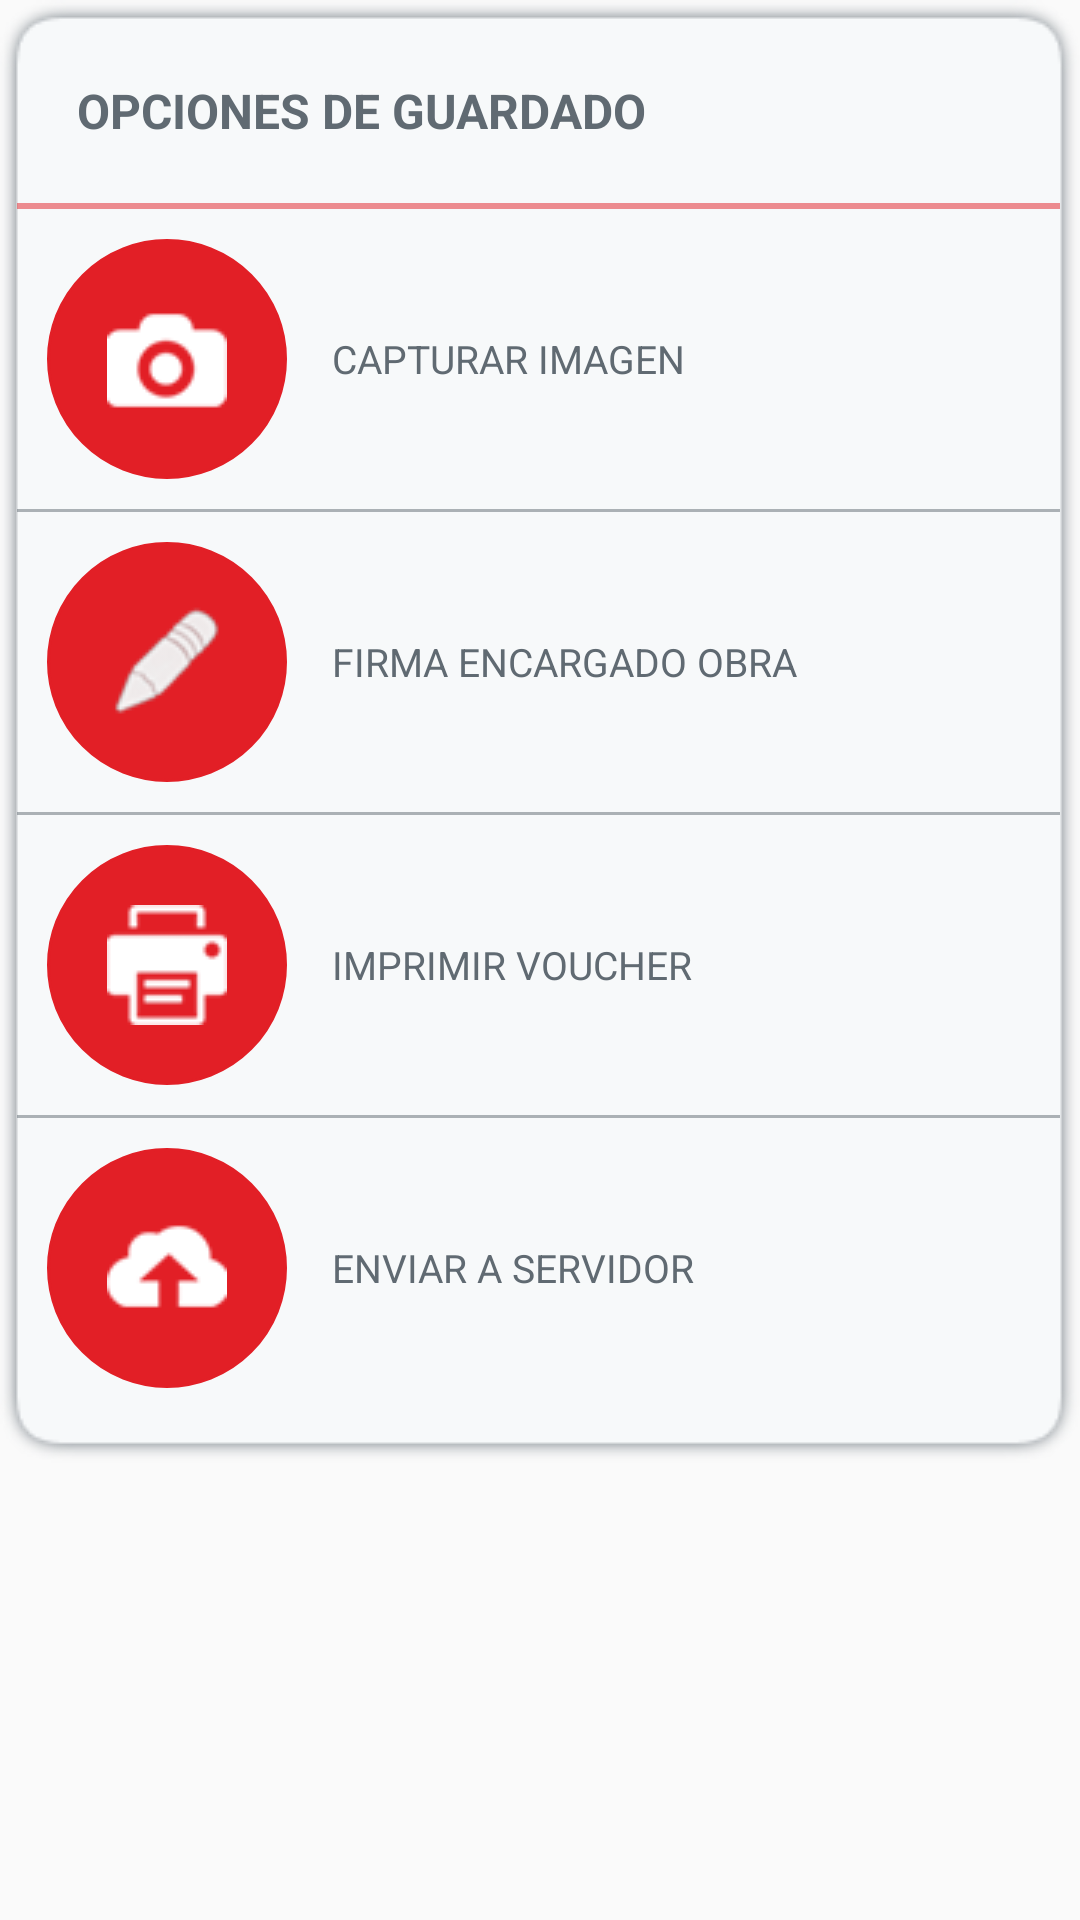

Locate icon controls on the screen. Image size 1080*1920, boxes as (x1, y1, x2, y2).
camera: (47, 239, 287, 479)
cloud: (47, 1148, 287, 1388)
lapiz: (47, 542, 287, 782)
printer: (47, 845, 287, 1085)
